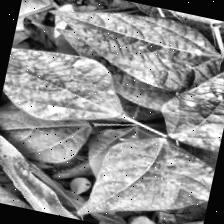Bean Rust: (42, 0, 224, 98), (75, 124, 218, 224), (0, 43, 131, 133), (155, 46, 224, 153)
